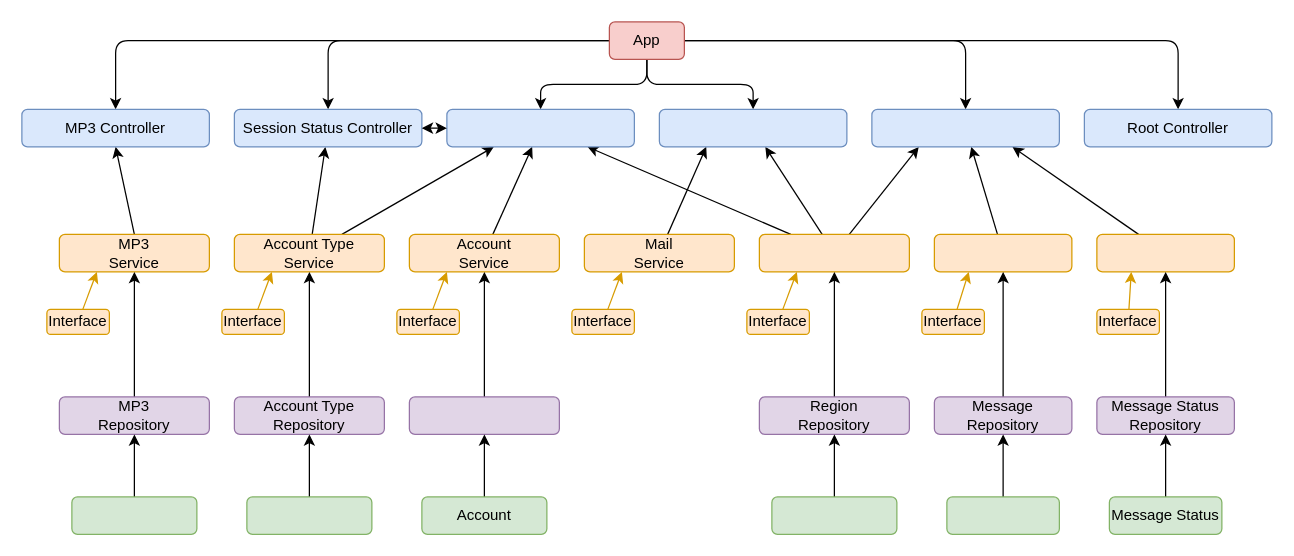
Some shapes in this 1294 by 556 pixel diagram are drawn without their labels. The centre of each missing label's shape, as x and y in pixels:
"Account Controller" goes at point 540,127.
"Account Repository" goes at point 483,415.
"Account Type" goes at point 309,515.
"Community Controller" goes at point 752,127.
"Message" goes at point 1002,515.
"Message Controller" goes at point 965,127.
"Message Service" goes at point 1002,252.
"Message Status Service" goes at point 1165,252.
"MP3" goes at point 134,515.
"Region" goes at point 834,515.
"Region Service" goes at point 833,252.
